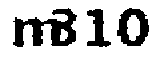0: (118, 8, 151, 52)
1: (82, 7, 113, 50)
3: (60, 8, 82, 48)
m: (9, 17, 61, 48)
